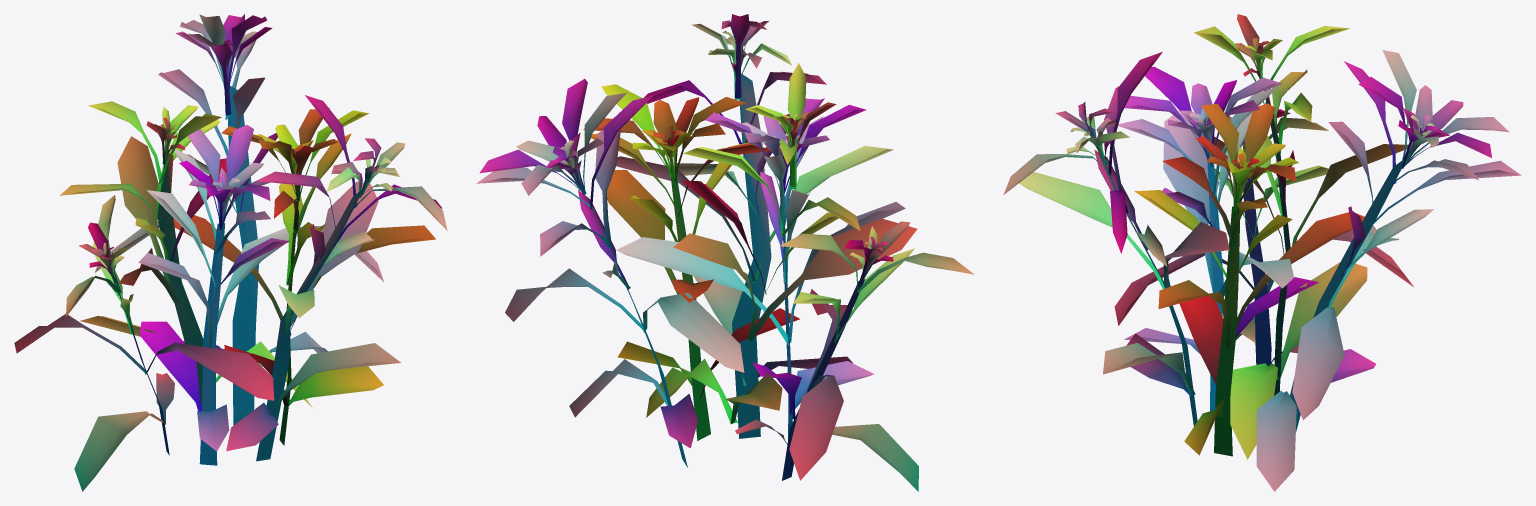
Rendered from Sage_ve3gbfoja_Mid_ve3gbfoja_VarF_LOD2.fbx.
The picture shows the model from 3 angles, left to right: view 1: azimuth 30°, elevation 25°; view 2: azimuth 150°, elevation 25°; view 3: azimuth 270°, elevation 25°; orthographic projection. The views are drawn at different scales.
Parts seen in each view (by area): view 1: _wh8d_VarF_LOD4; view 2: _wh8d_VarF_LOD4; view 3: _wh8d_VarF_LOD4.
Part boxes in pixels (x1=…): _wh8d_VarF_LOD4: x1=14, y1=14, x2=447, y2=491; _wh8d_VarF_LOD4: x1=476, y1=14, x2=974, y2=491; _wh8d_VarF_LOD4: x1=1003, y1=14, x2=1521, y2=491.
Size of the model in its own units: 50.9 by 49.05 by 56.59.
